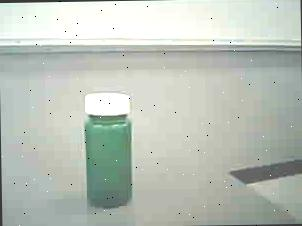Bottle C: (72, 86, 152, 218)
